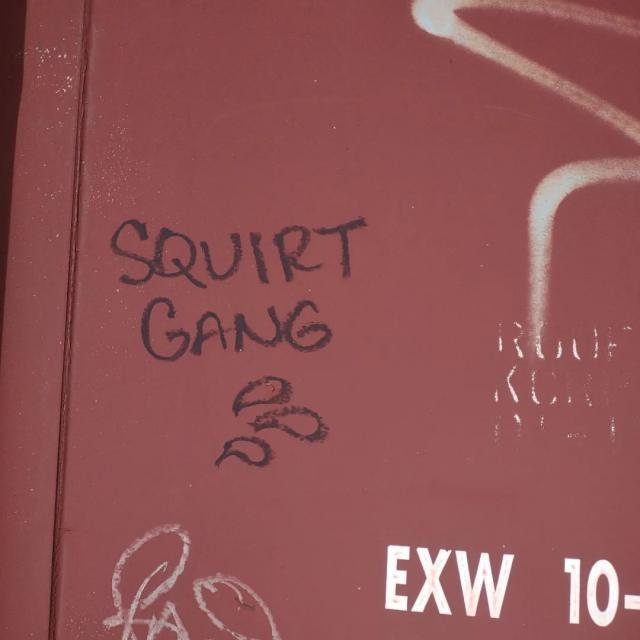nonspitting: (110, 217, 366, 470), (103, 524, 283, 640)
